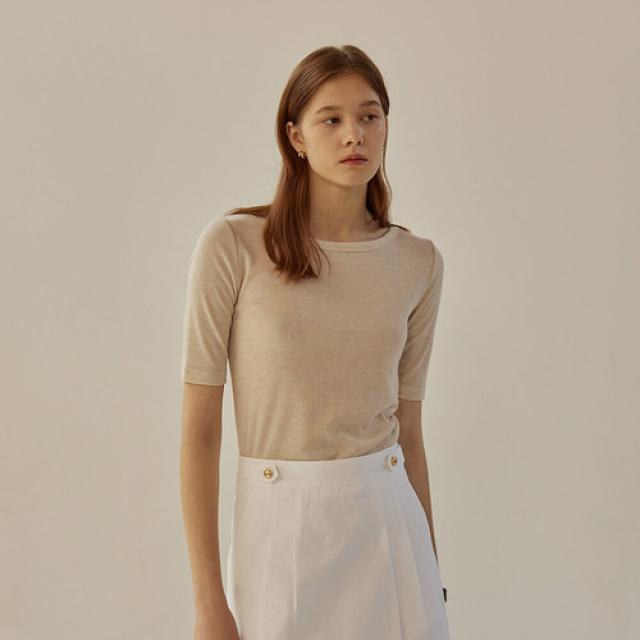Blouse_deep: (186, 208, 439, 460)
